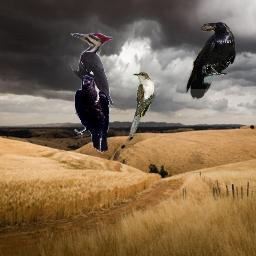Crow: (186, 22, 236, 100), (74, 75, 110, 154)
Cuckoo: (129, 72, 155, 137)
Woodpecker: (70, 33, 114, 117)
